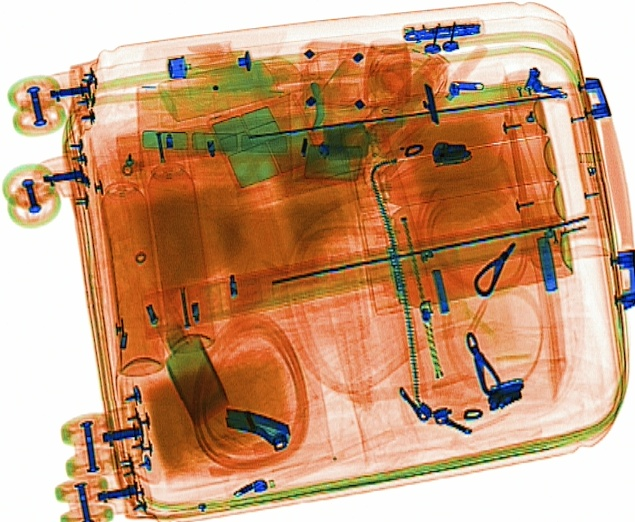pressure: (361, 223, 575, 316), (332, 87, 547, 173), (137, 127, 217, 357), (91, 152, 170, 379), (346, 134, 559, 218), (353, 178, 568, 259)
